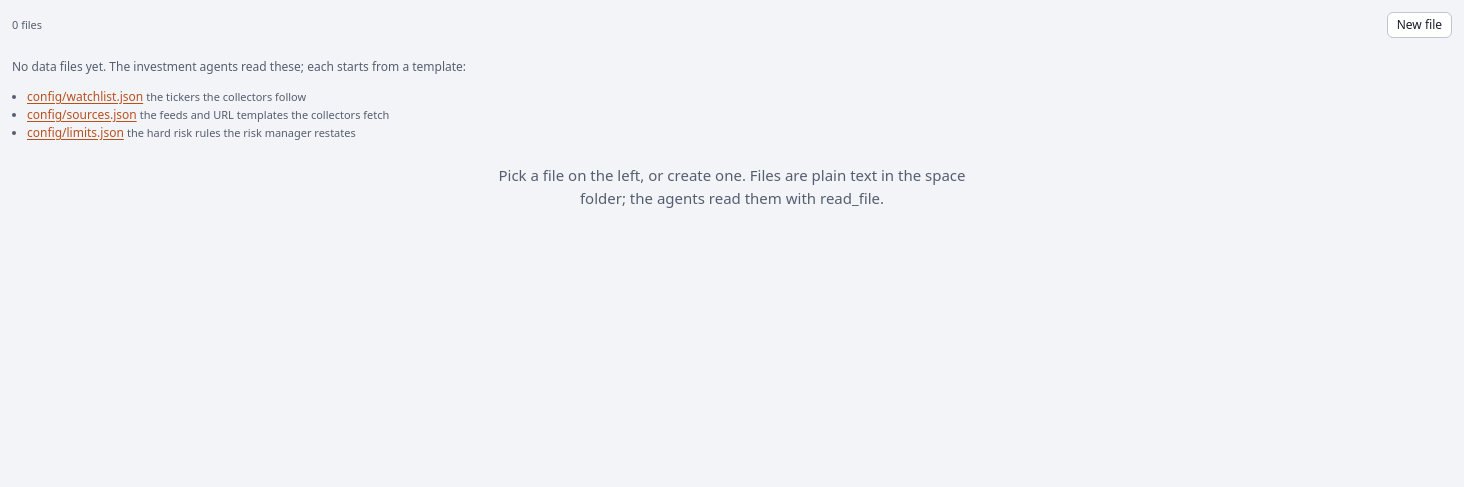
Test: data files › starts a new file from a template, and deletes one after a second click
Click the button "config/sources.json".
click(82, 115)  # box [27,106,137,124]
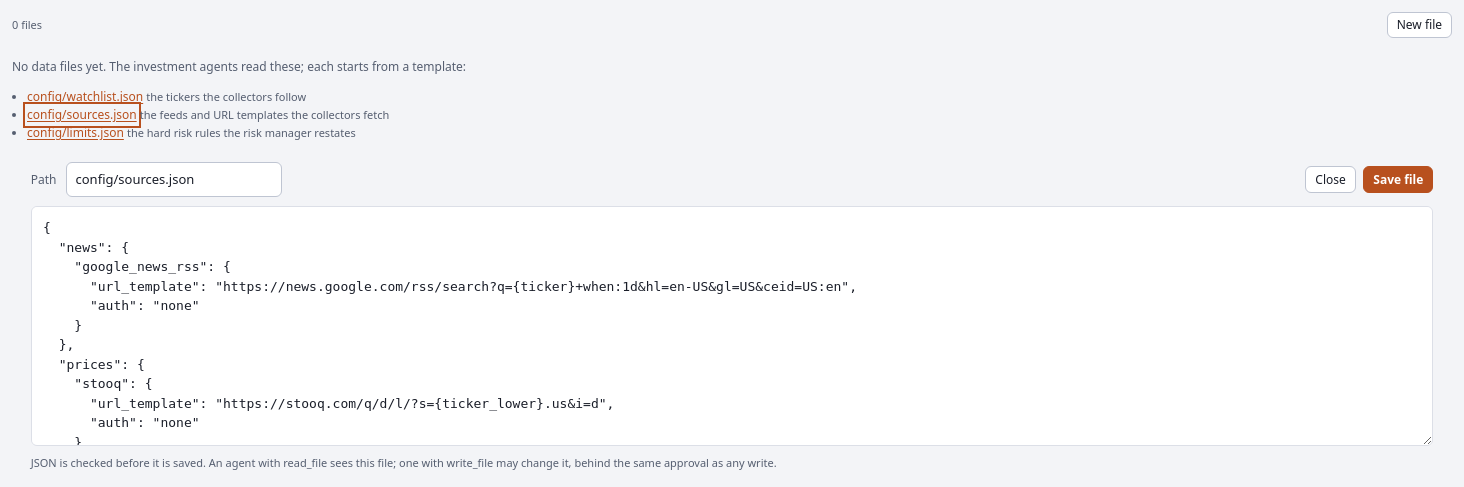
Expected: the field named "File path" holds "config/sources.json", [66,162,282,197]
Click the button "Save file".
click(1398, 180)  # box [1363,166,1433,193]
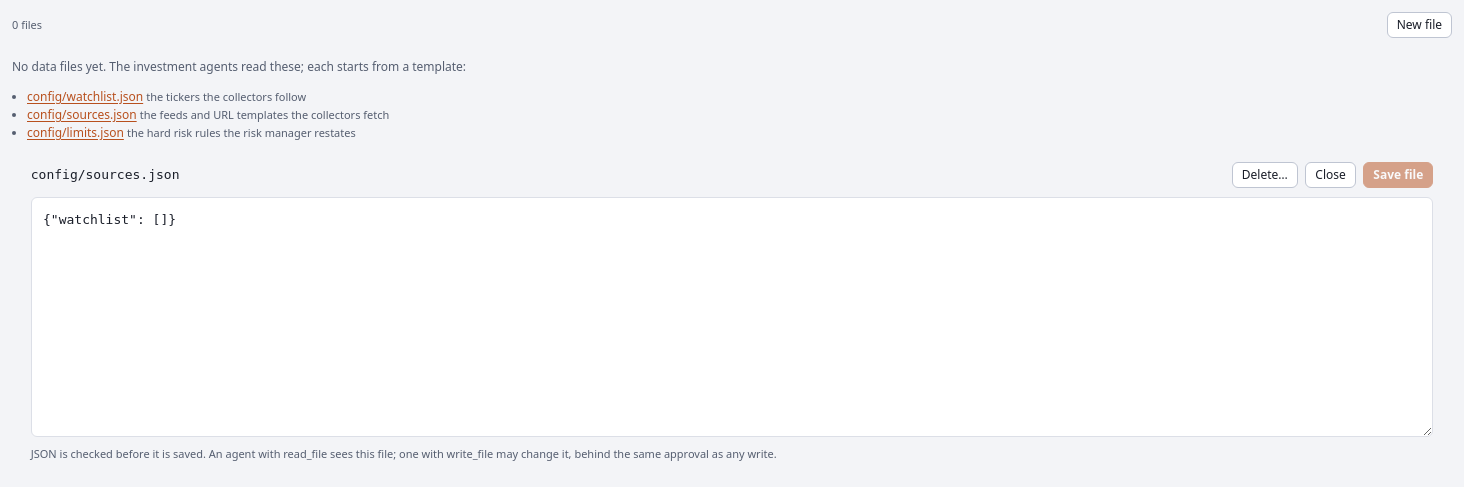
Note: Saved: the editor now holds an existing file, which can be deleted.
Click the button "Delete…".
click(1265, 175)  # box [1232,162,1298,188]
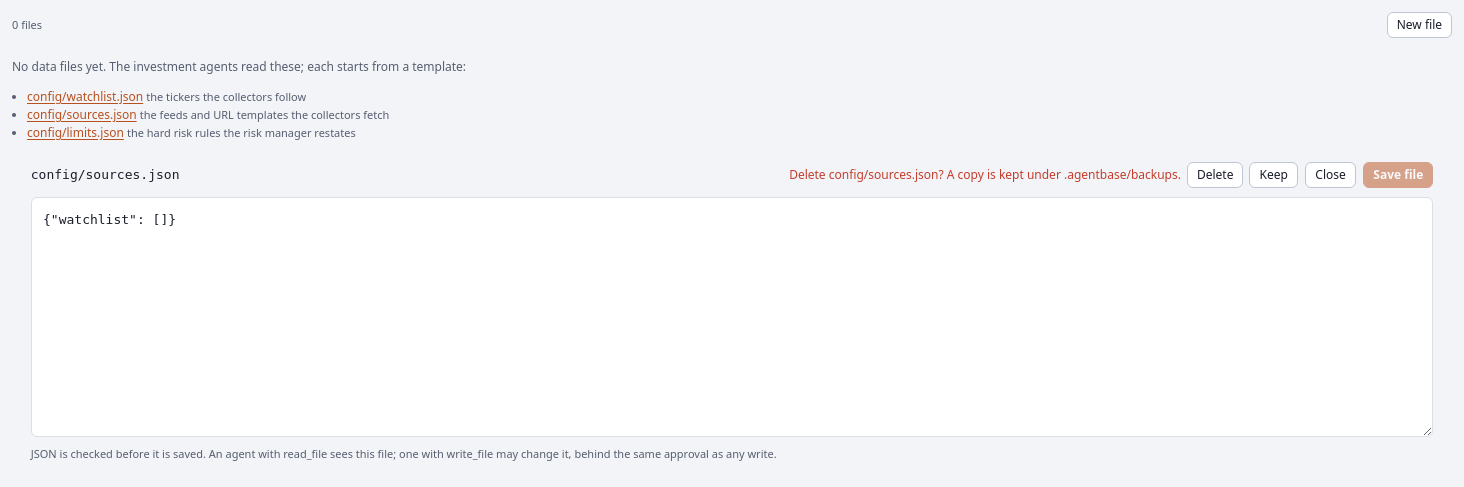
Click the button "Delete".
click(1215, 175)  # box [1187,162,1244,188]
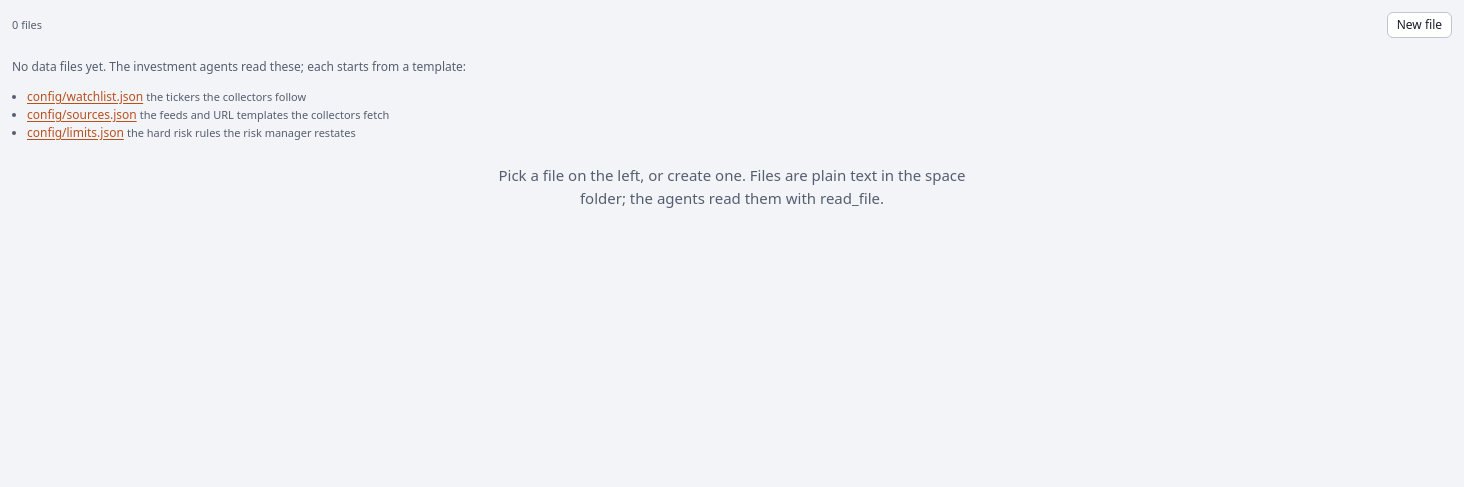
Expected: the text "Pick a file on the left" is shown, [498,165,966,208]
